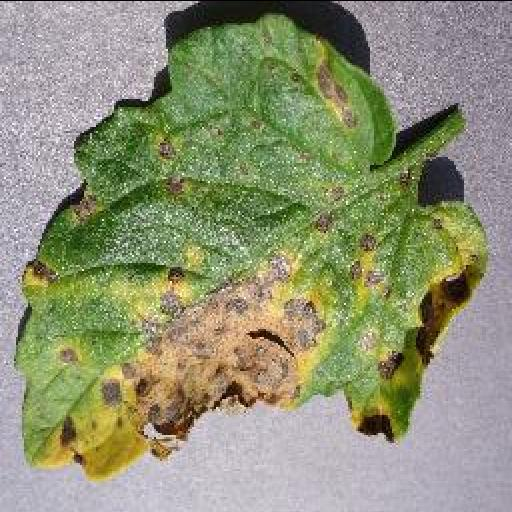disease_tomato: (17, 13, 487, 473)
